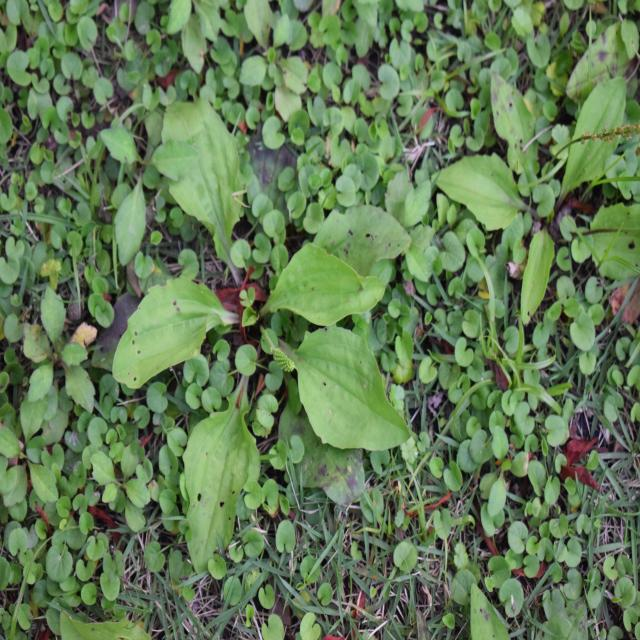plantain: (136, 118, 390, 498)
